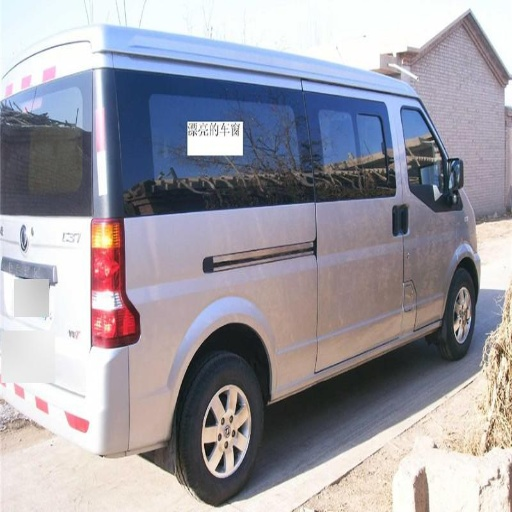back_bumper: (57, 344, 170, 452)
tailgate: (3, 212, 94, 353)
trunk: (150, 247, 306, 396), (2, 333, 90, 384)
